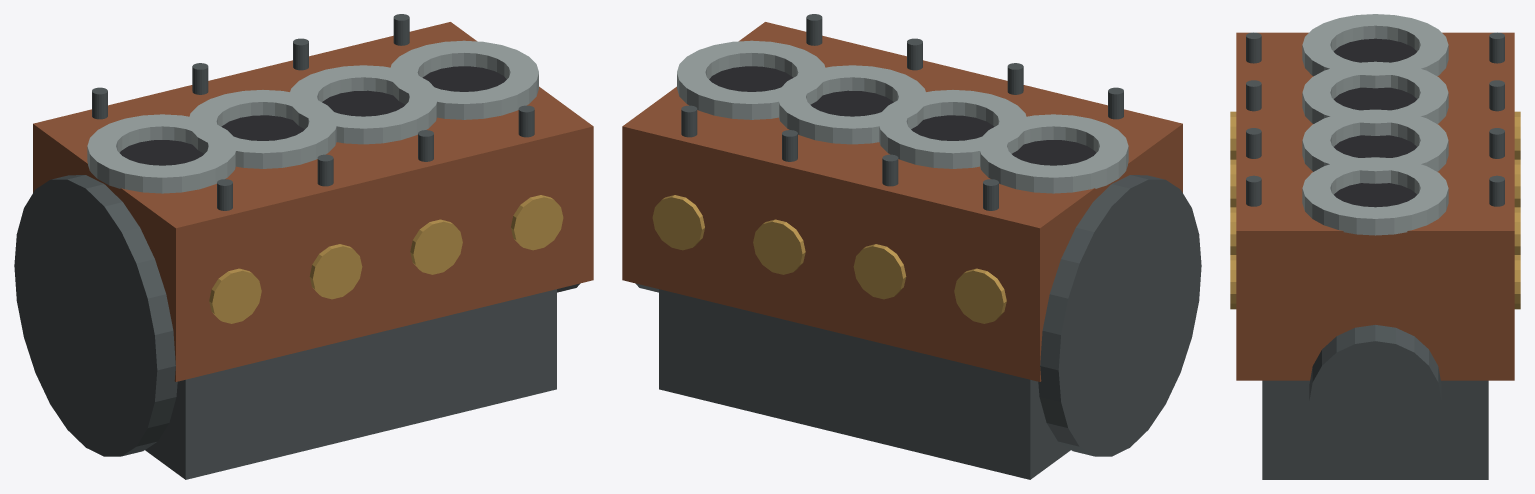
Rendered from JUNK_EngineBlock.glb.
3 views of the same model, side by side, from view 1: azimuth 30°, elevation 25°; view 2: azimuth 150°, elevation 25°; view 3: azimuth 270°, elevation 25° (orthographic). The views are drawn at different scales.
Parts seen in each view (by area): view 1: Casting, Sump, FlywheelFlange, Deck, CorePlugs, Bores, HeadStuds; view 2: Casting, Sump, FlywheelFlange, Deck, CorePlugs, Bores, HeadStuds; view 3: Casting, Deck, Pulley, Sump, Bores, HeadStuds, CorePlugs.
Part boxes in pixels (x1,y1,x2,y2): Casting: [33, 22, 593, 381]; Sump: [145, 289, 556, 479]; FlywheelFlange: [14, 175, 177, 456]; Deck: [87, 40, 538, 193]; CorePlugs: [209, 195, 563, 323]; Bores: [120, 66, 506, 165]; HeadStuds: [92, 14, 534, 210]; Casting: [622, 22, 1182, 381]; Sump: [659, 289, 1070, 479]; FlywheelFlange: [1038, 175, 1201, 456]; Deck: [677, 40, 1128, 193]; CorePlugs: [652, 195, 1006, 323]; Bores: [709, 66, 1095, 165]; HeadStuds: [681, 14, 1123, 210]; Casting: [1236, 32, 1514, 380]; Deck: [1302, 14, 1448, 235]; Pulley: [1309, 325, 1441, 460]; Sump: [1262, 380, 1488, 479]; Bores: [1333, 38, 1417, 207]; HeadStuds: [1246, 32, 1504, 206]; CorePlugs: [1230, 111, 1520, 309].
Bounding box in the file's own units: 0.6085 × 0.361 × 0.334.
